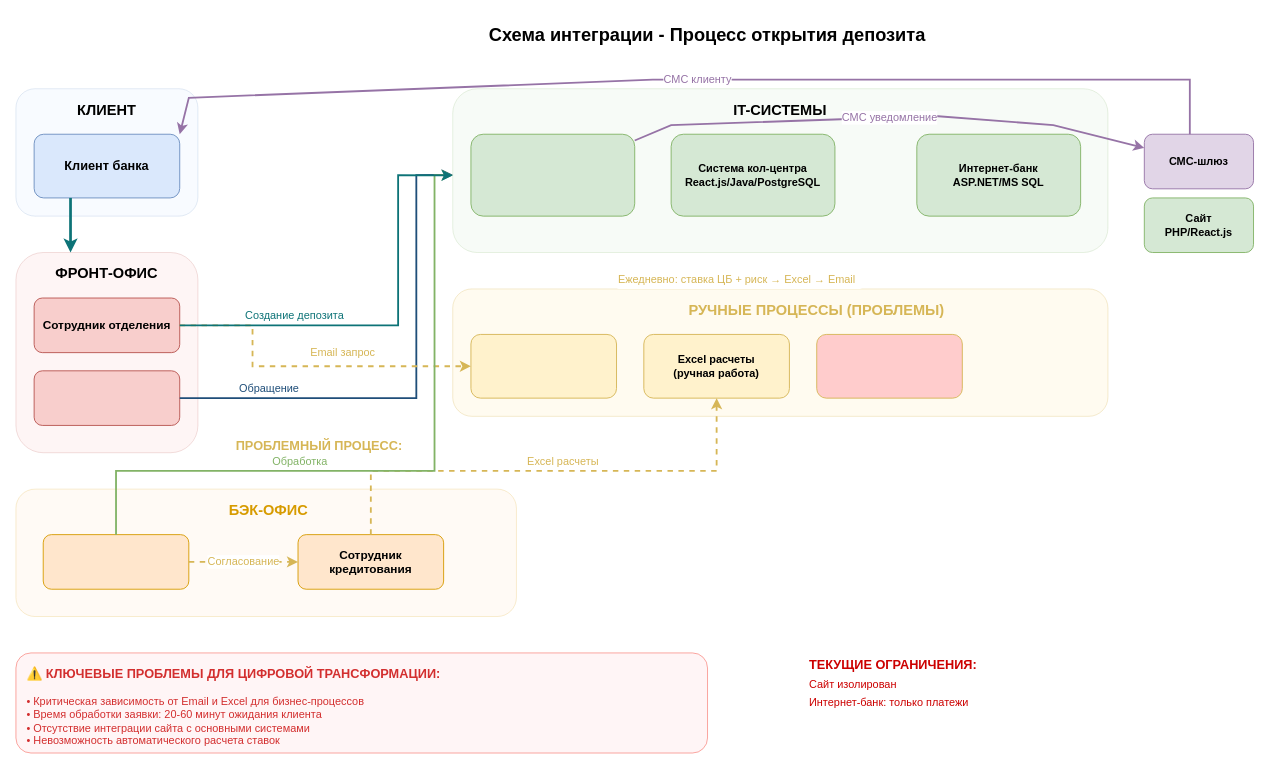
The diagram is 1269 pixels wide and 769 high, and some of its shapes have lost their labels. The shapes that lost their labels are listed below. From the top down, each one's centre as x and y in pixels, then its label:
(x=552, y=174): АБС (Автоматизированная банковская система) Delphi/Oracle
(x=543, y=366): Email переписка (медленно, ошибки)
(x=889, y=366): Ожидание клиента (20-60 минут)
(x=106, y=397): Оператор кол-центра
(x=115, y=561): Сотрудник депозитов
